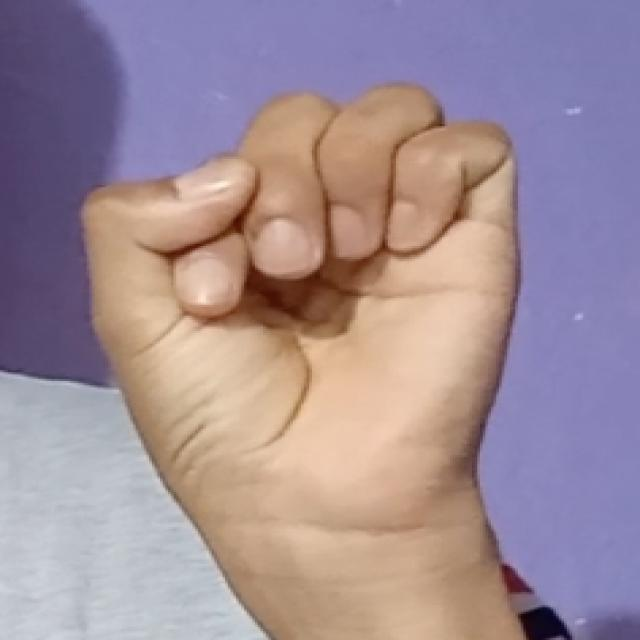S: (76, 76, 531, 545)
